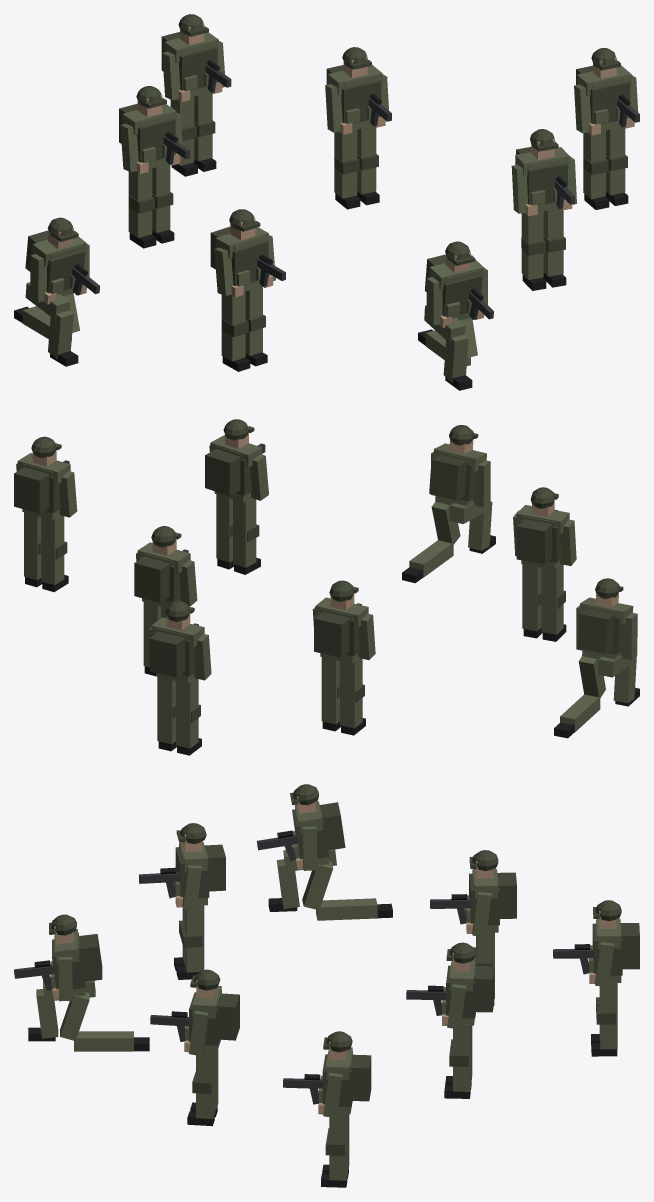
The model's file is Unit_Infantry.obj.
The picture shows the model from 3 angles, top to bottom: view 1: azimuth 30°, elevation 25°; view 2: azimuth 150°, elevation 25°; view 3: azimuth 270°, elevation 25°; orthographic projection. The views are drawn at different scales.
Size of the model in its own units: 7.61 by 1.78 by 6.86.
